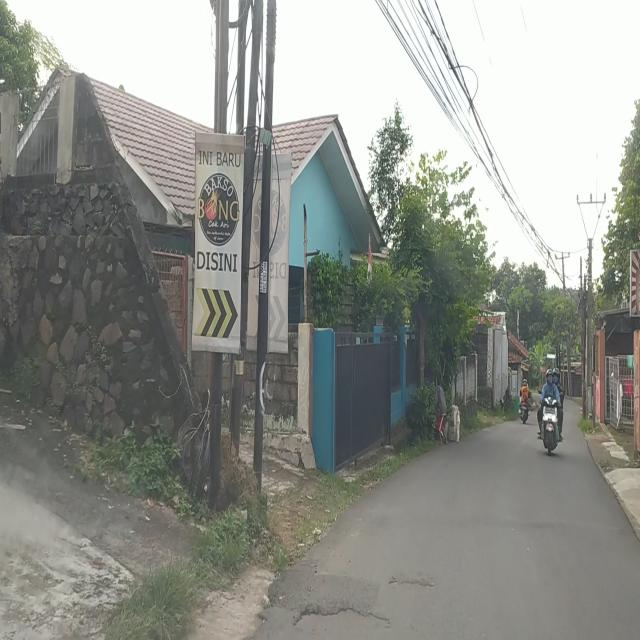Sewer Cover: (292, 598, 392, 633), (386, 574, 435, 597)
